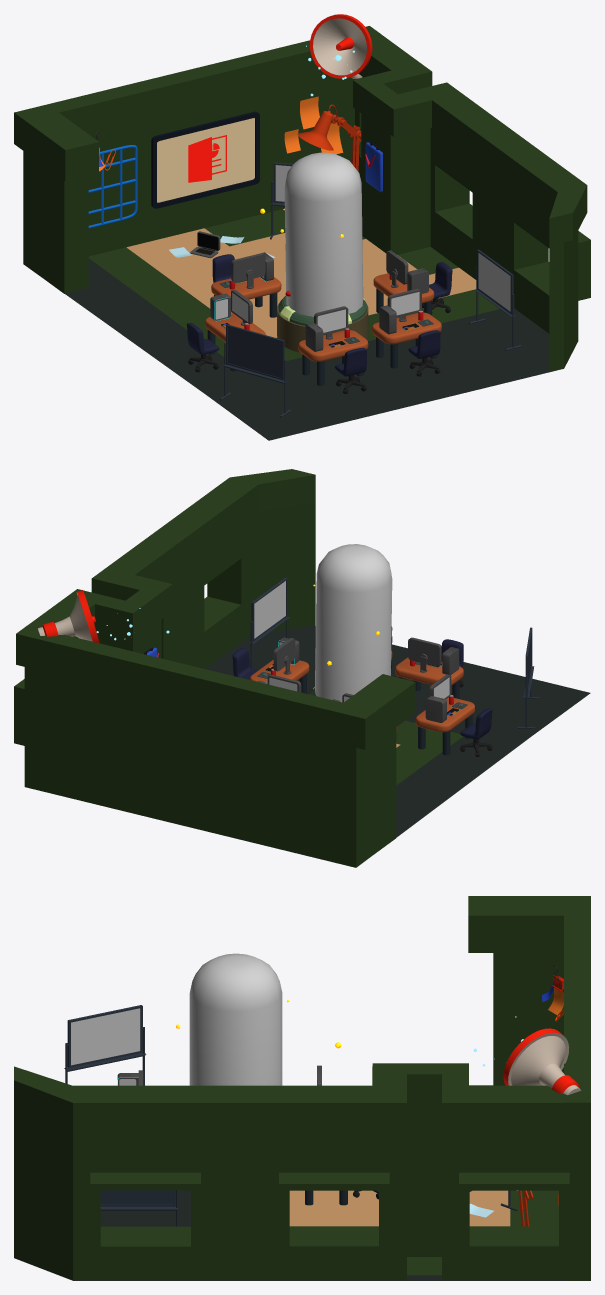
Rendered from design_2.fbx.
3 renders of one model, top to bottom at view 1: azimuth 30°, elevation 25°; view 2: azimuth 150°, elevation 25°; view 3: azimuth 270°, elevation 25°, orthographic. The views are drawn at different scales.
Parts seen in each view (by area): view 1: Plane.048, Office.001, Office.013, Office.014, Plane.066, Office.015, Vert.006, Cube.018, desk.013, desk.012, Cylinder.059, Backboard.005 (+12 smaller); view 2: Office.013, Office.001, Office.014, Office.015, Plane.048, Vert.006, desk.014, desk.013, desk.015, Plane.066, Backboard.004, Cylinder.059 (+1 smaller); view 3: Office.001, Office.015, Vert.006, Office.014, Office.013, Plane.066, Backboard.005, Cylinder.059, Plane.048, Backboard.004.
Part boxes in pixels (x1,y1,x2,y2): Plane.048: (23, 258, 571, 440); Office.001: (355, 77, 590, 371); Office.013: (23, 77, 354, 293); Office.014: (14, 26, 380, 181); Plane.066: (88, 208, 499, 360); Office.015: (353, 34, 587, 245); Vert.006: (284, 152, 363, 316); Cube.018: (151, 111, 259, 208); desk.013: (298, 306, 368, 393); desk.012: (372, 288, 441, 376); Cylinder.059: (310, 14, 372, 78); Backboard.005: (219, 324, 290, 417); Office.013: (24, 667, 396, 867); Office.001: (14, 501, 315, 745); Office.014: (16, 625, 415, 749); Office.015: (27, 469, 315, 640); Plane.048: (142, 625, 590, 867); Vert.006: (315, 544, 392, 702); desk.014: (415, 674, 492, 756); desk.013: (395, 637, 463, 698); desk.015: (232, 637, 309, 693); Plane.066: (396, 720, 462, 784); Backboard.004: (249, 577, 289, 668); Cylinder.059: (38, 590, 99, 643); Office.001: (14, 1107, 569, 1280); Office.015: (14, 1063, 569, 1135); Vert.006: (189, 953, 282, 1085); Office.014: (468, 896, 590, 1140); Office.013: (493, 948, 590, 1280); Plane.066: (289, 1190, 558, 1275); Backboard.005: (64, 1005, 146, 1085); Cylinder.059: (503, 1028, 581, 1095); Plane.048: (14, 1085, 590, 1280); Backboard.004: (100, 1190, 178, 1226).
Bounding box in the file's own units: 997 × 1141 × 522.
